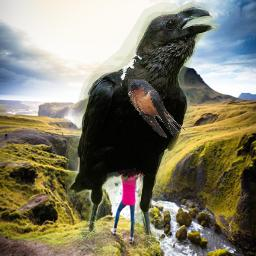Crow: (65, 1, 220, 254)
Swallow: (128, 79, 186, 138)
